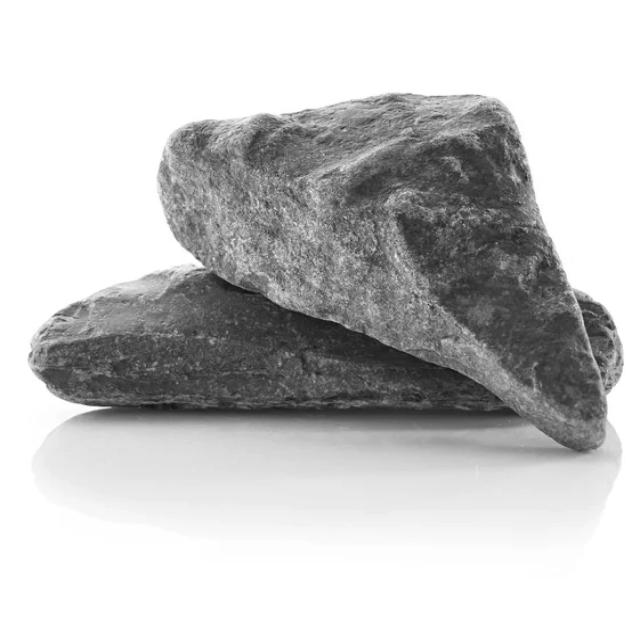Stone: (158, 94, 607, 452), (29, 266, 508, 411), (577, 291, 624, 392)
